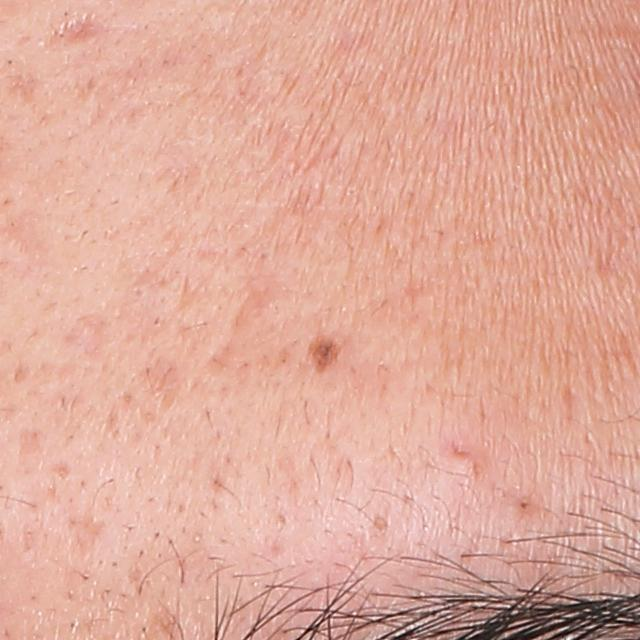atrophic_scar: (197, 273, 276, 385), (59, 311, 104, 357), (45, 12, 103, 44), (14, 424, 45, 469)
comedo: (370, 512, 391, 535), (515, 496, 535, 514)
nevus: (305, 333, 341, 376)
